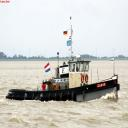tugboat: (6, 52, 122, 110)
